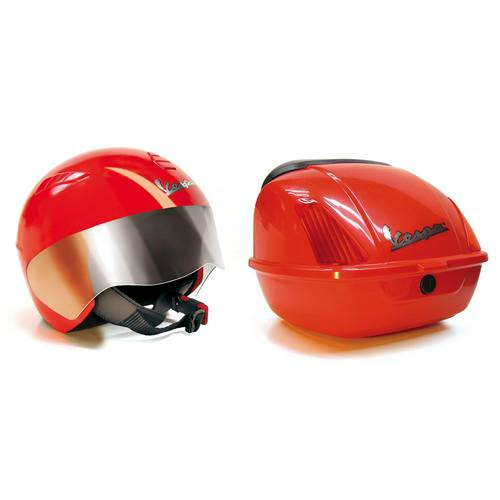helmet: (15, 138, 197, 287)
